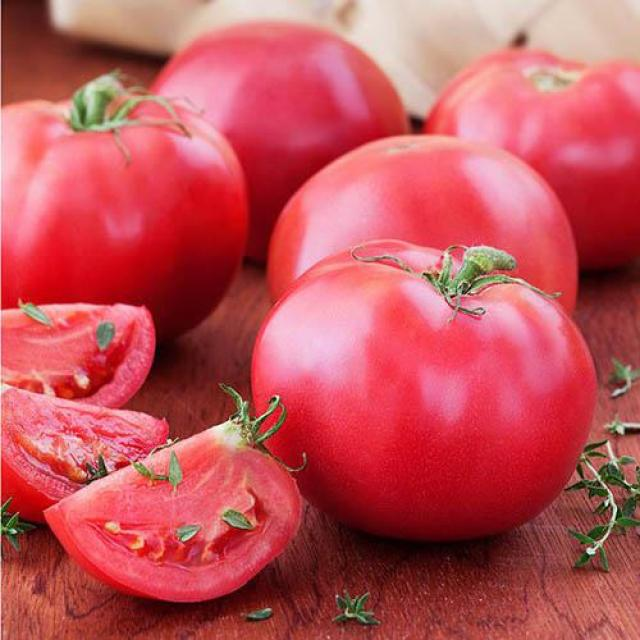Tomato: (253, 245, 596, 542), (8, 96, 252, 317), (279, 129, 575, 282), (48, 427, 305, 600), (0, 382, 166, 504), (0, 304, 171, 422)
